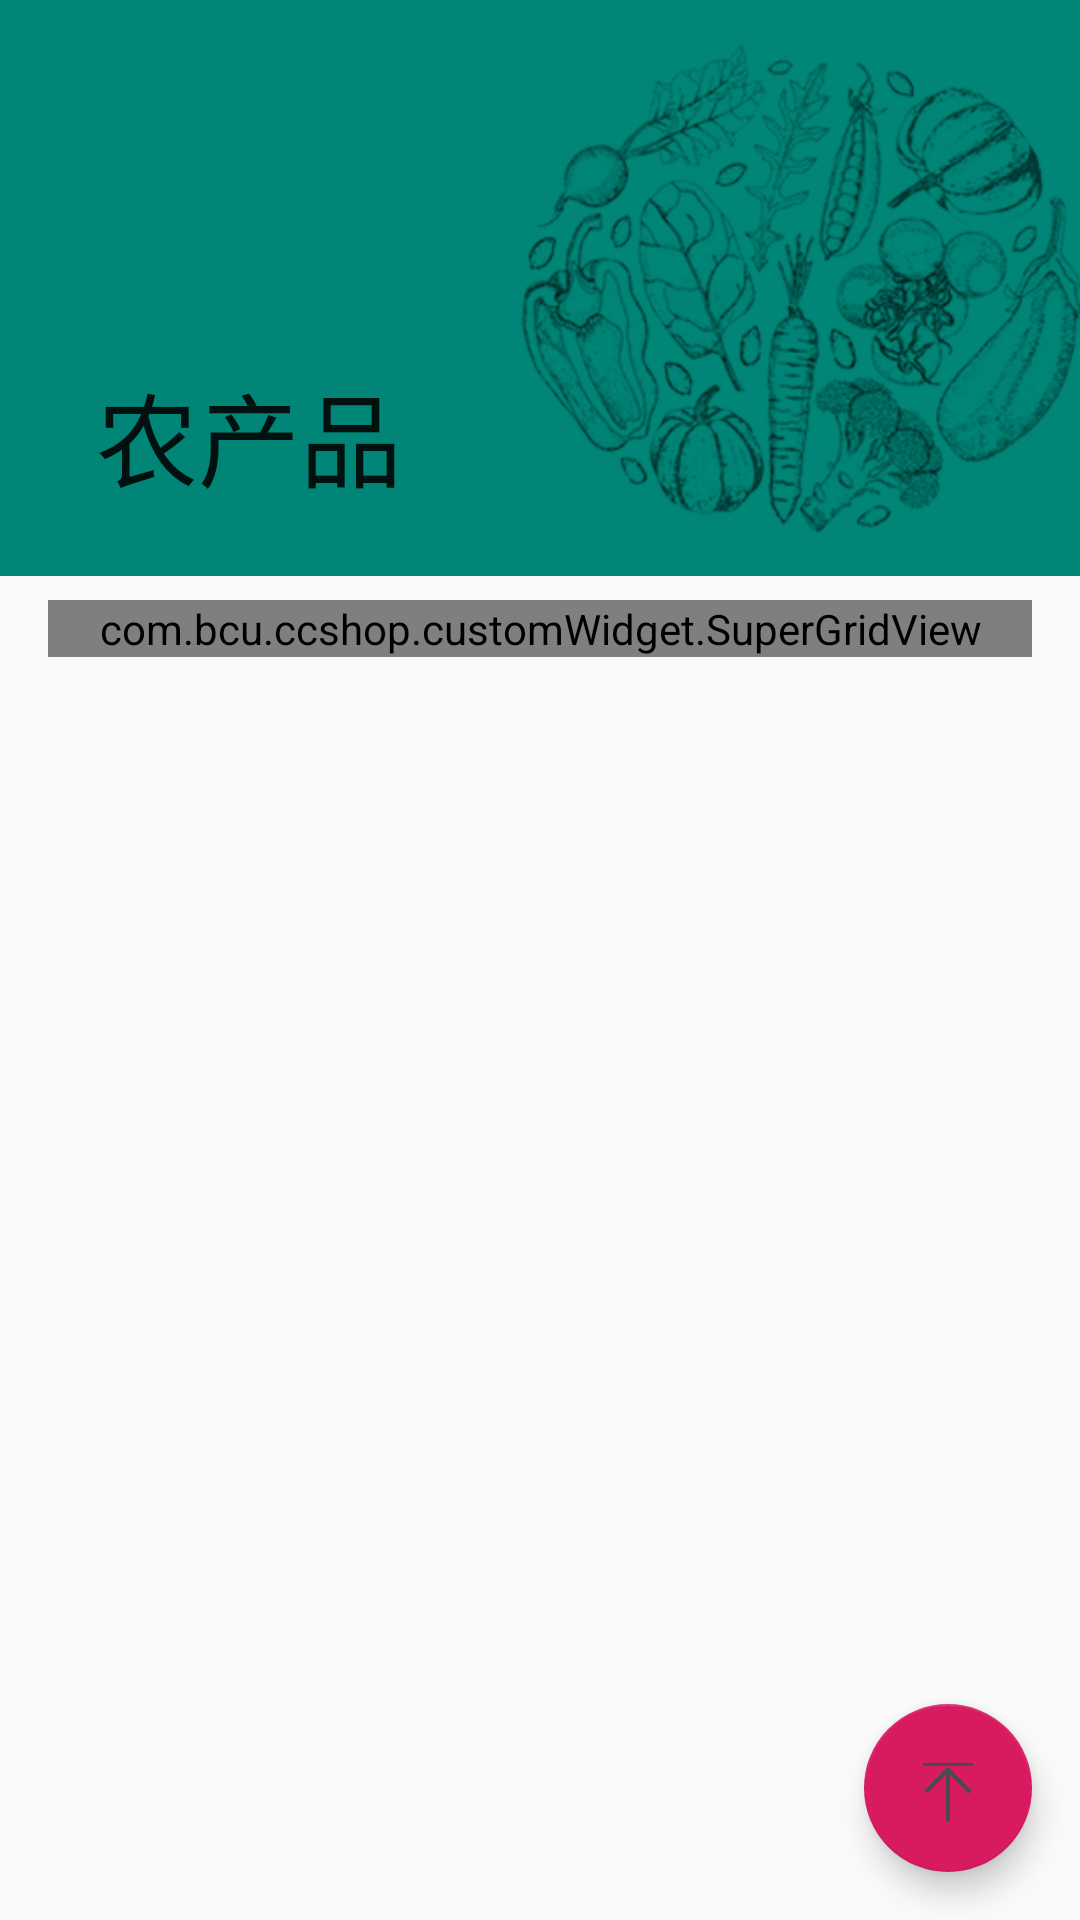

Icon click points for this 1080w x 1920h phone screenshot, format (x=x, y=y):
totop: (x=948, y=1788)
